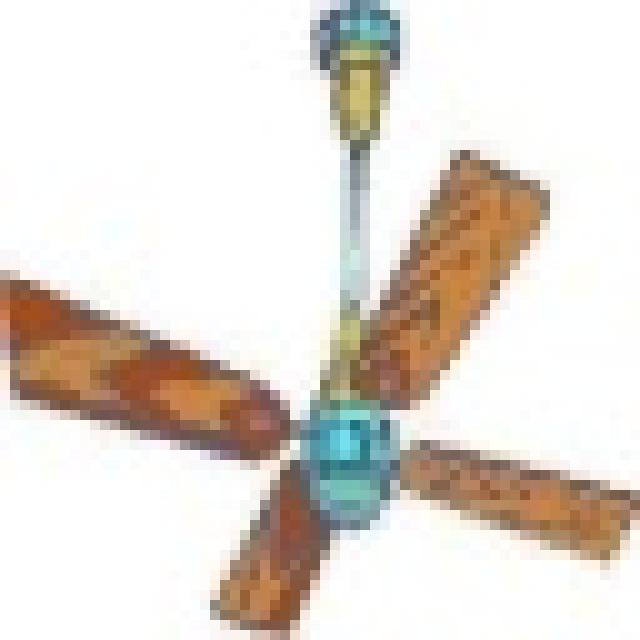Bulb: (5, 160, 640, 598)
